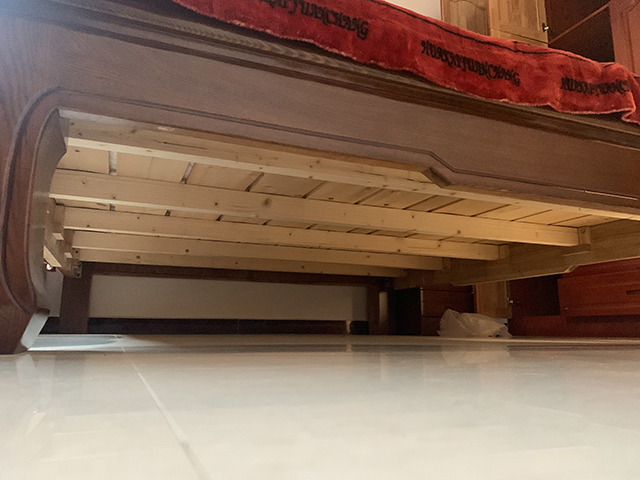bed: (1, 1, 639, 357)
cabinet: (474, 259, 640, 342), (388, 284, 470, 335)
